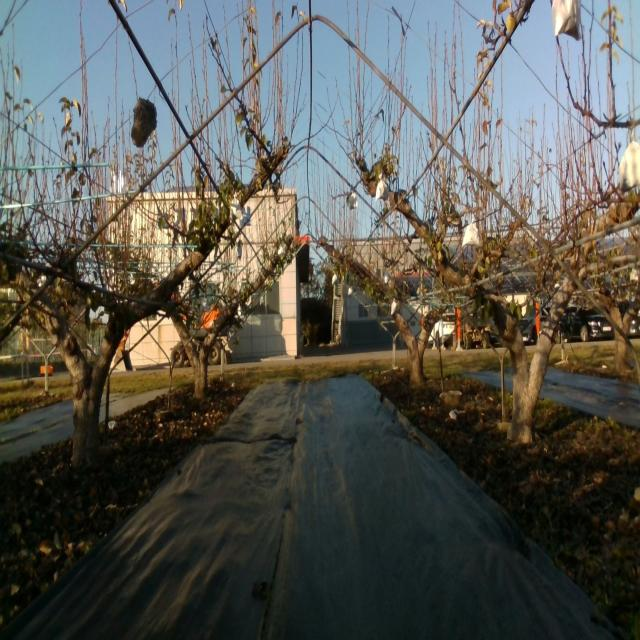pearbags: (617, 138, 640, 196), (552, 0, 582, 39), (462, 221, 479, 248), (376, 172, 388, 202), (230, 194, 243, 220)
